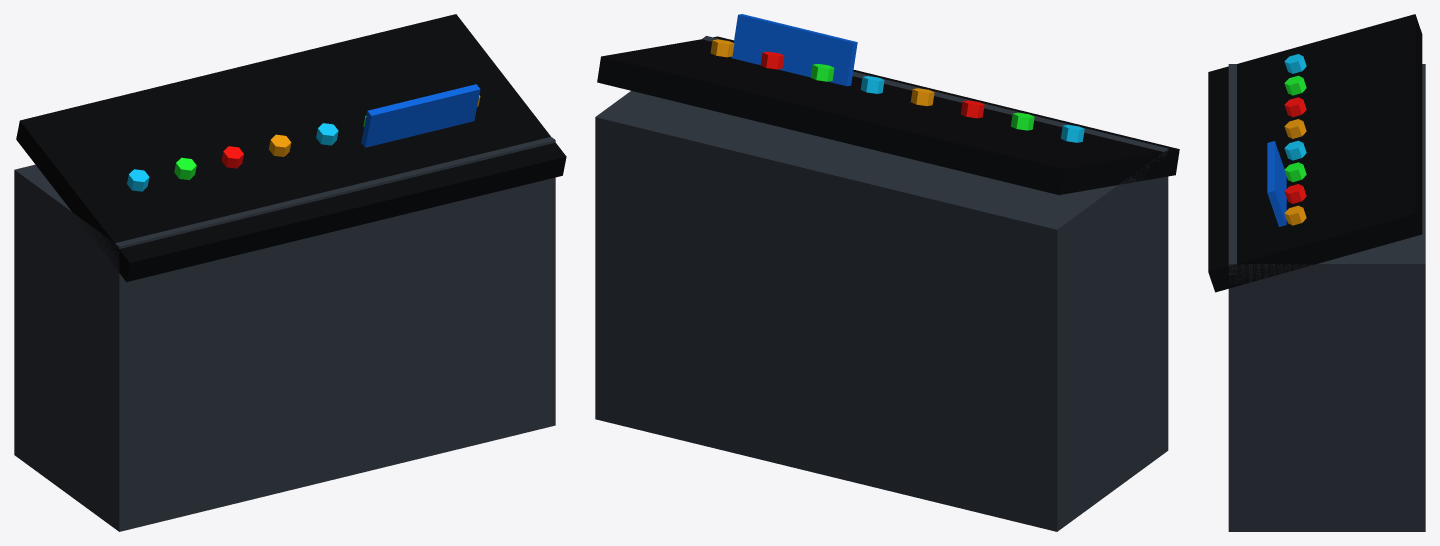
The model's file is control_panel.obj.
The picture shows the model from 3 angles, left to right: view 1: azimuth 30°, elevation 25°; view 2: azimuth 150°, elevation 25°; view 3: azimuth 270°, elevation 25°; orthographic projection. The views are drawn at different scales.
Parts seen in each view (by area): view 1: control_panel; view 2: control_panel; view 3: control_panel.
Boxes of the visible parts, left/top/right/bottom form: control_panel: left=14, top=14, right=566, bottom=531; control_panel: left=595, top=14, right=1179, bottom=531; control_panel: left=1208, top=14, right=1425, bottom=531.
Bounding box in the file's own units: 1.2 × 0.8899 × 0.5516.
